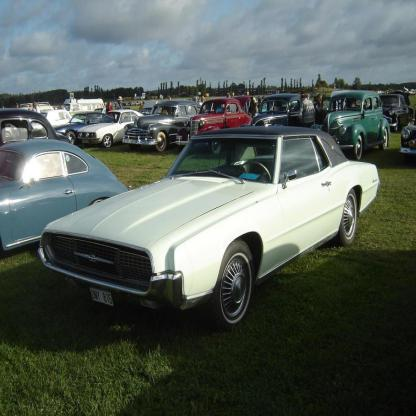Car: (0, 88, 416, 259)
